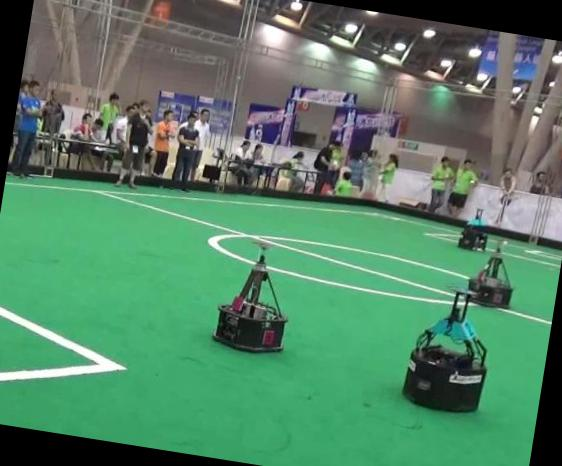person: (115, 101, 152, 189), (11, 80, 41, 177), (172, 113, 199, 190)
robot: (402, 291, 486, 412), (213, 255, 286, 351), (468, 242, 512, 308), (458, 208, 487, 251)
